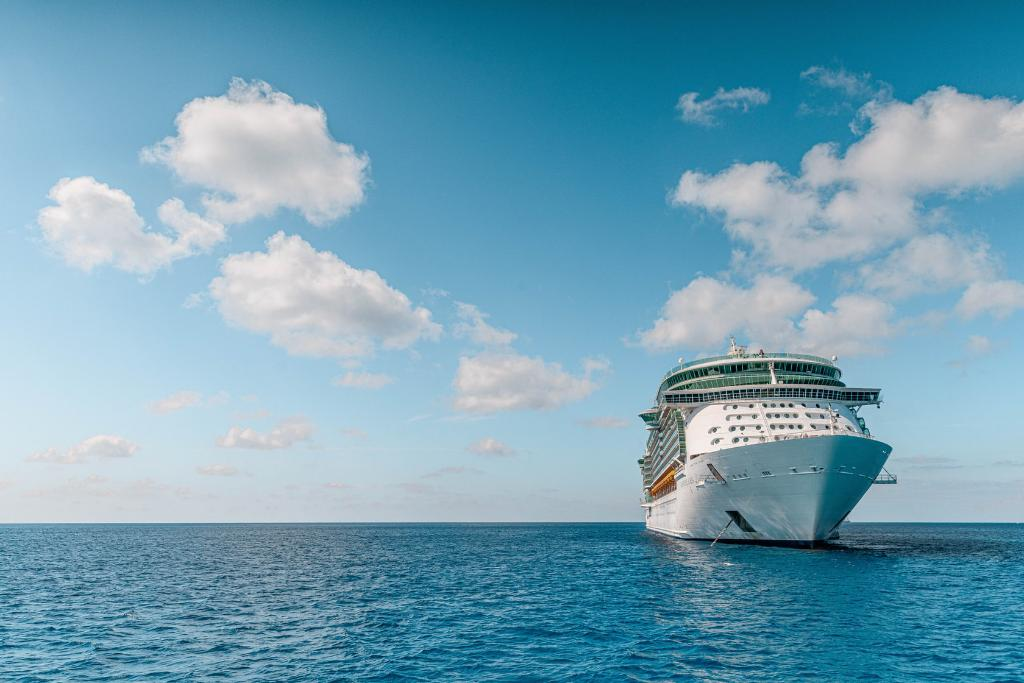PassengerShip: (634, 330, 900, 554)
